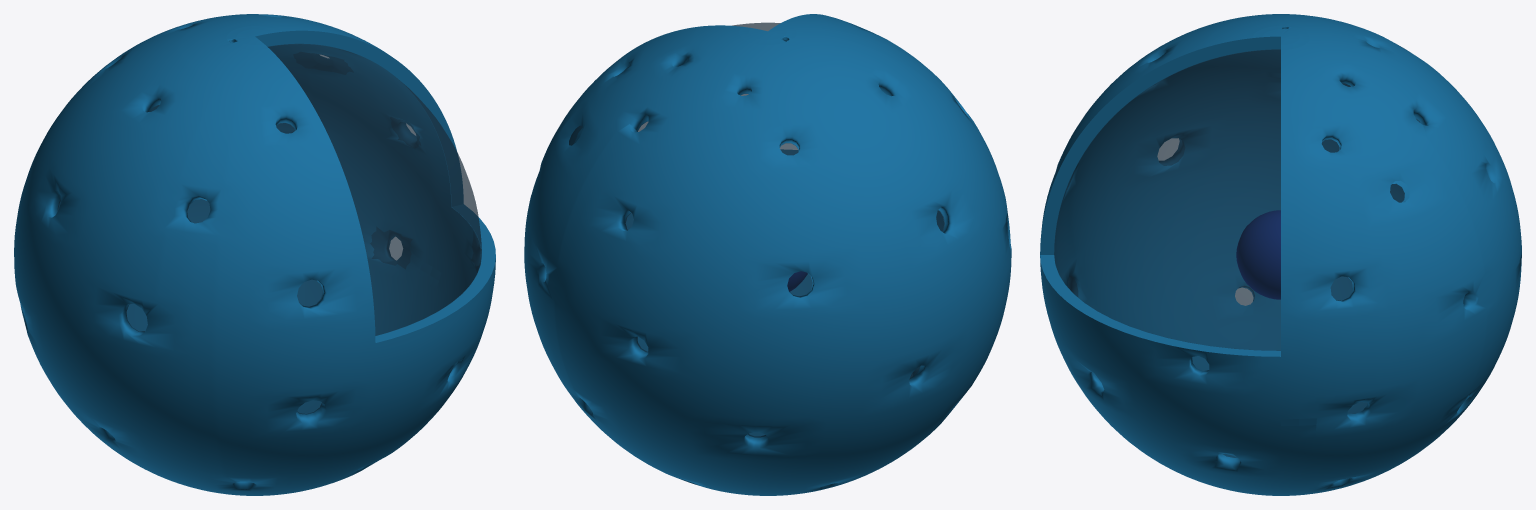
File: Nucleus.FBX
3 renders of one model, left to right at view 1: azimuth 30°, elevation 25°; view 2: azimuth 150°, elevation 25°; view 3: azimuth 270°, elevation 25°, orthographic.
Parts seen in each view (by area): view 1: Nucleus_Cell_Envelope, Nucleoplasm_Nucleus_Cell; view 2: Nucleus_Cell_Envelope, Nucleoplasm_Nucleus_Cell; view 3: Nucleus_Cell_Envelope, Nucleoplasm_Nucleus_Cell, Nucleus_Cell_Nucleolus.
Part boxes in pixels (x1,y1,x2,y2): Nucleus_Cell_Envelope: (14, 14, 495, 495); Nucleoplasm_Nucleus_Cell: (57, 43, 481, 414); Nucleus_Cell_Envelope: (524, 14, 1011, 495); Nucleoplasm_Nucleus_Cell: (569, 22, 944, 437); Nucleus_Cell_Envelope: (1040, 14, 1521, 495); Nucleoplasm_Nucleus_Cell: (1054, 49, 1464, 457); Nucleus_Cell_Nucleolus: (1236, 210, 1280, 299).
Size of the model in its own units: 49.94 by 49.94 by 49.92.
